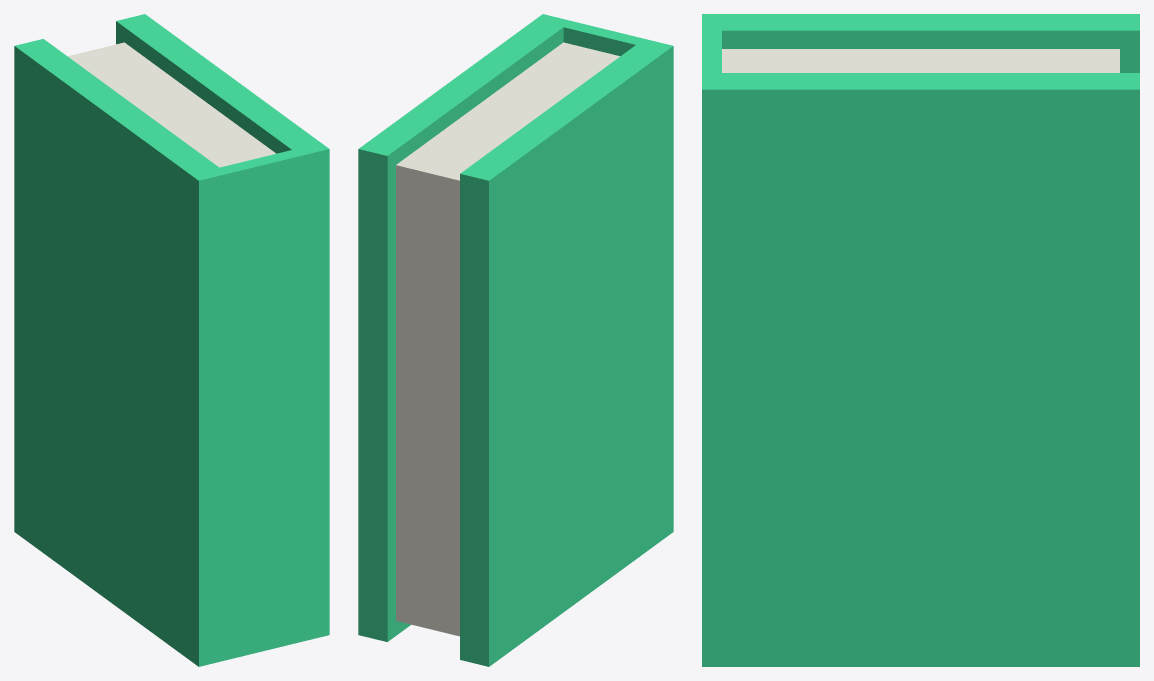
The model's file is Book_Light.fbx.
The picture shows the model from 3 angles, left to right: view 1: azimuth 30°, elevation 25°; view 2: azimuth 150°, elevation 25°; view 3: azimuth 270°, elevation 25°; orthographic projection. The views are drawn at different scales.
Visible parts, largest first — view 1: pCube3; view 2: pCube3; view 3: pCube3.
Boxes of the visible parts, x1,y1,x2,y2 form: pCube3: [14, 14, 329, 666]; pCube3: [358, 14, 673, 666]; pCube3: [702, 14, 1139, 666].
Size of the model in its own units: 9 by 32 by 22.
